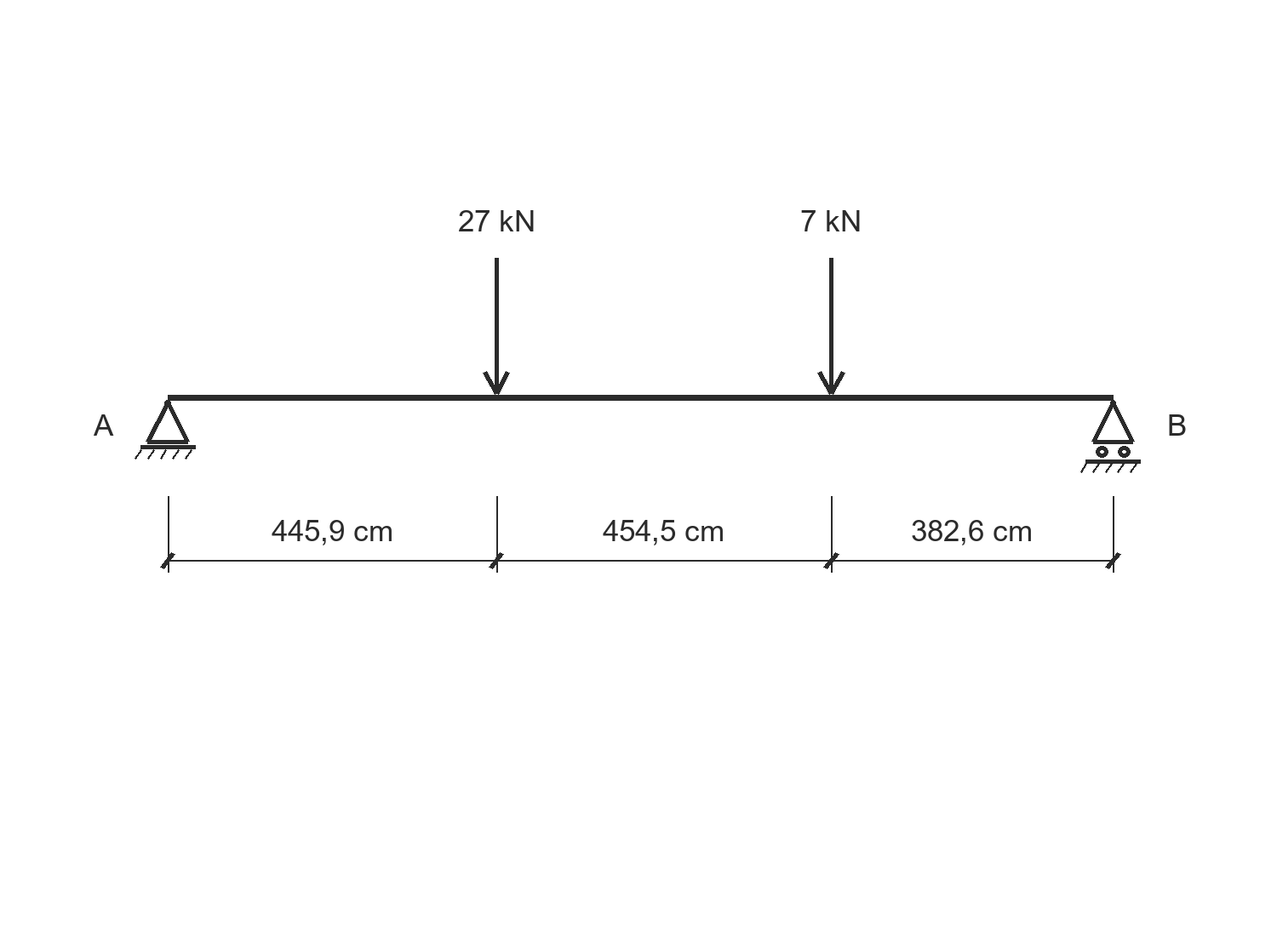pin_support: (135, 400, 196, 459)
point_load: (817, 258, 845, 395), (483, 258, 510, 395)
roller_support: (1080, 400, 1141, 473)
